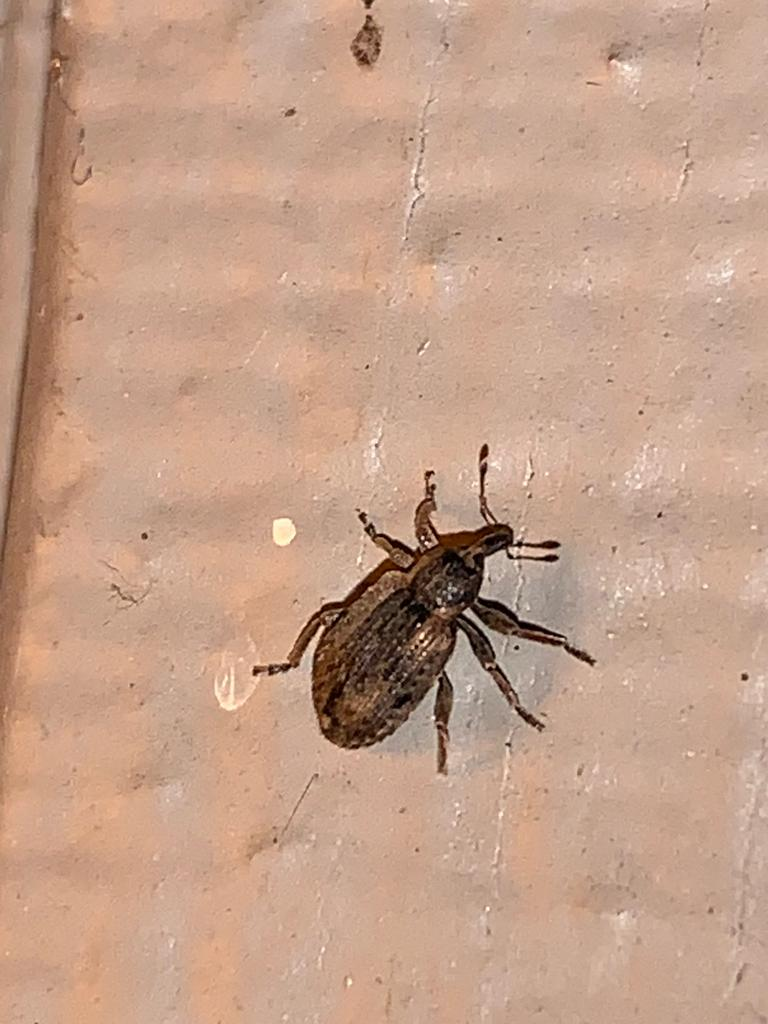weevils: (200, 373, 653, 833)
